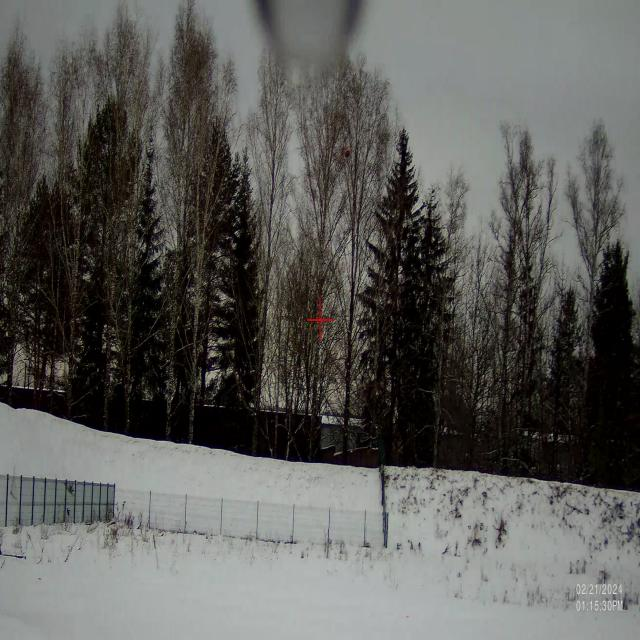entire: (338, 144, 356, 162)
